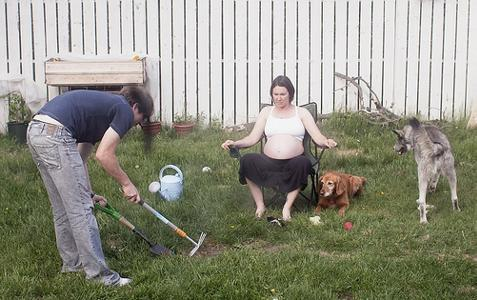person: (24, 81, 158, 289)
